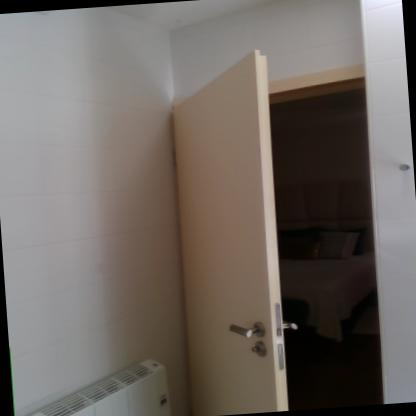semi: (171, 59, 385, 415)
